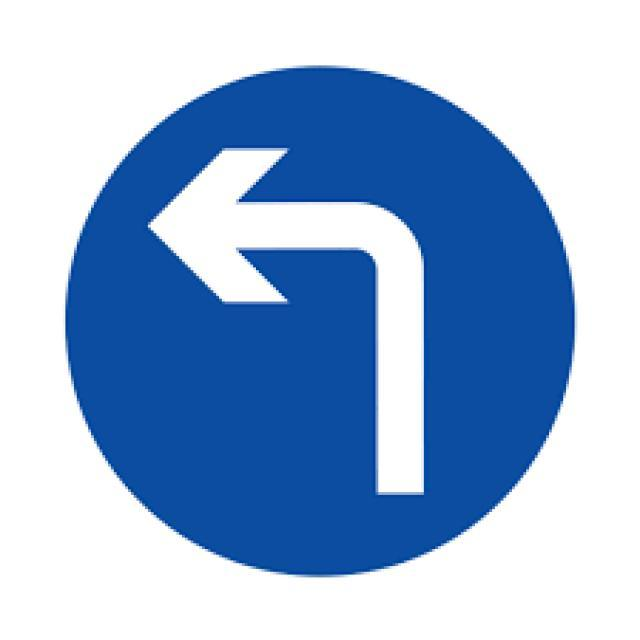compulsary turn left ahead: (48, 51, 594, 587)
